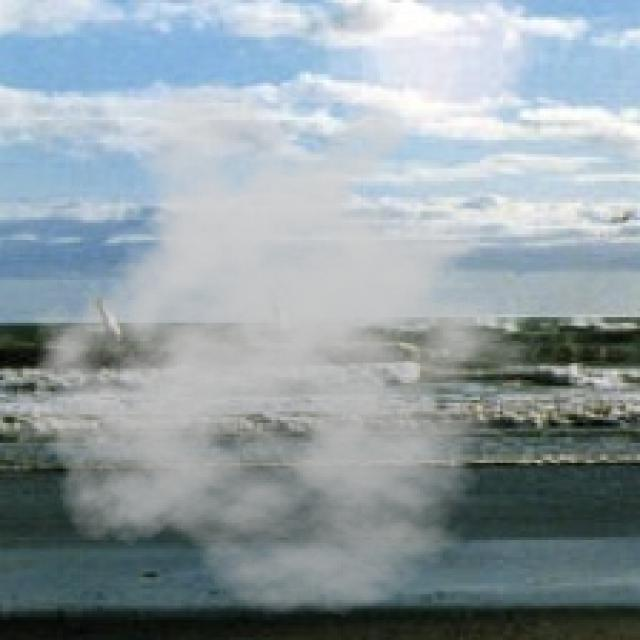smoke: (0, 74, 563, 617)
